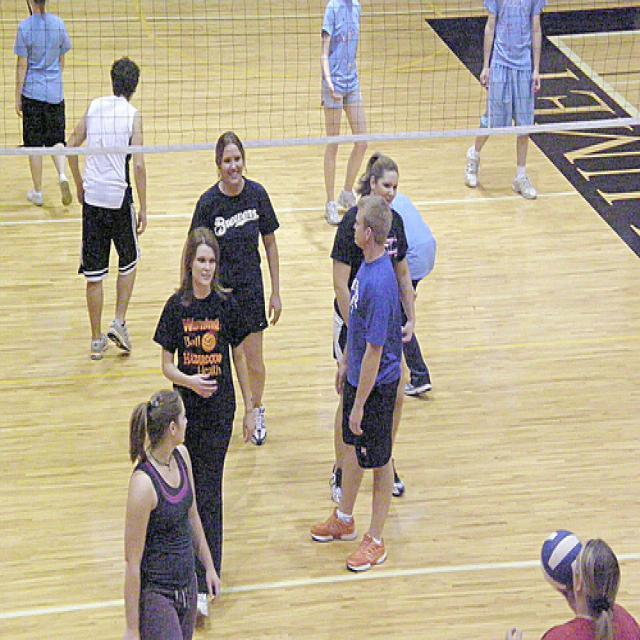volleyball: (541, 530, 584, 590)
